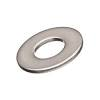No thread: (30, 40, 70, 60)
